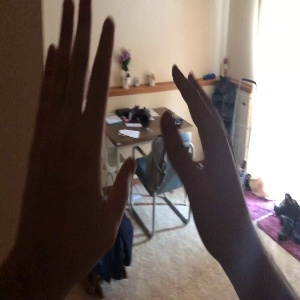hand: (16, 1, 137, 257), (160, 66, 260, 255)
